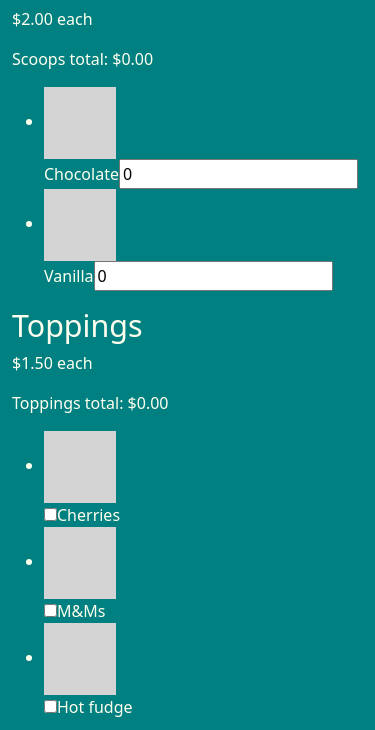
Test: Grand total › update grand total when item is removed
Replace the text in the number field labelled "Vanilla" with "1": (213, 276) left=94, top=260, right=332, bottom=290
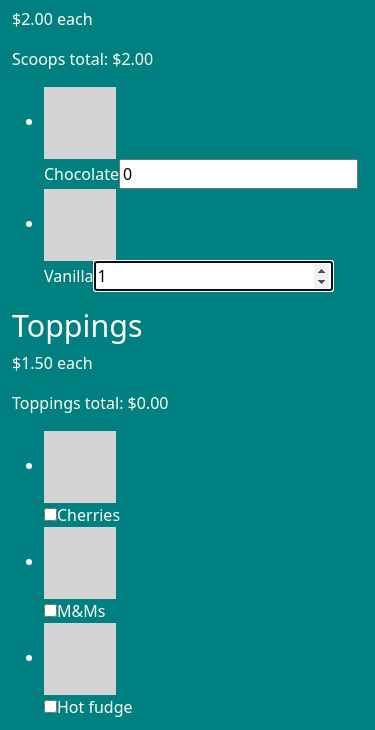
Click the checkbox labelled "Cherries": (50, 514) left=44, top=508, right=57, bottom=521
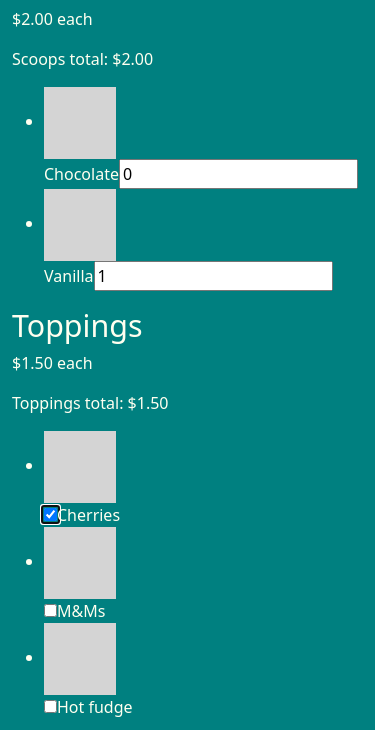
Replace the text in the number field labelled "Vanilla" with "0": (213, 276) left=94, top=260, right=332, bottom=290
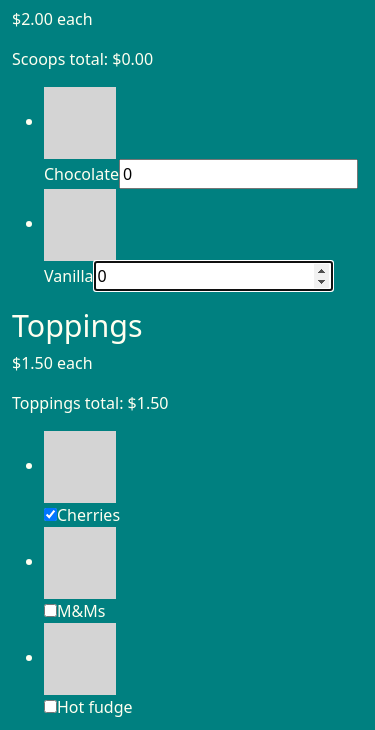
Click the checkbox labelled "Cherries": (50, 514) left=44, top=508, right=57, bottom=521
(page scrolled)
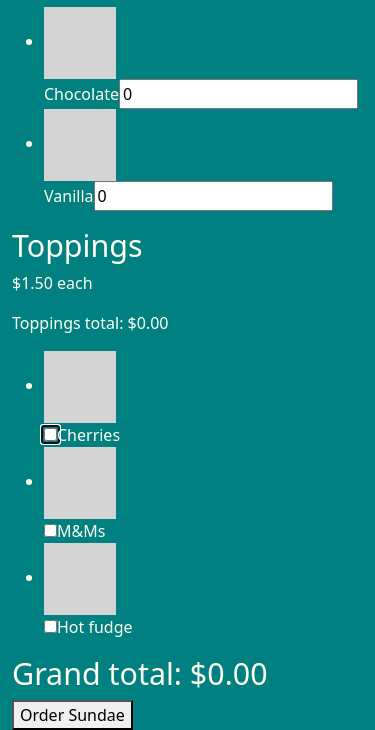
Check: the heading "Grand total: $0.00" is shown, box left=12, top=652, right=268, bottom=694
